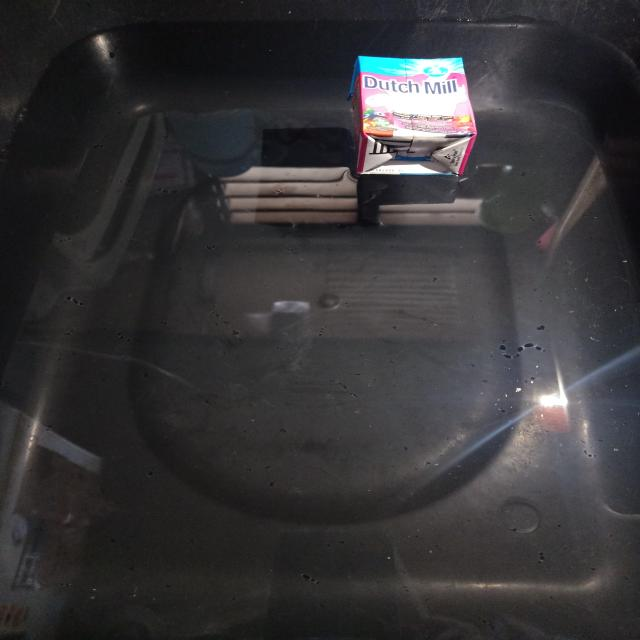Cardboard Box: (348, 56, 477, 175)
